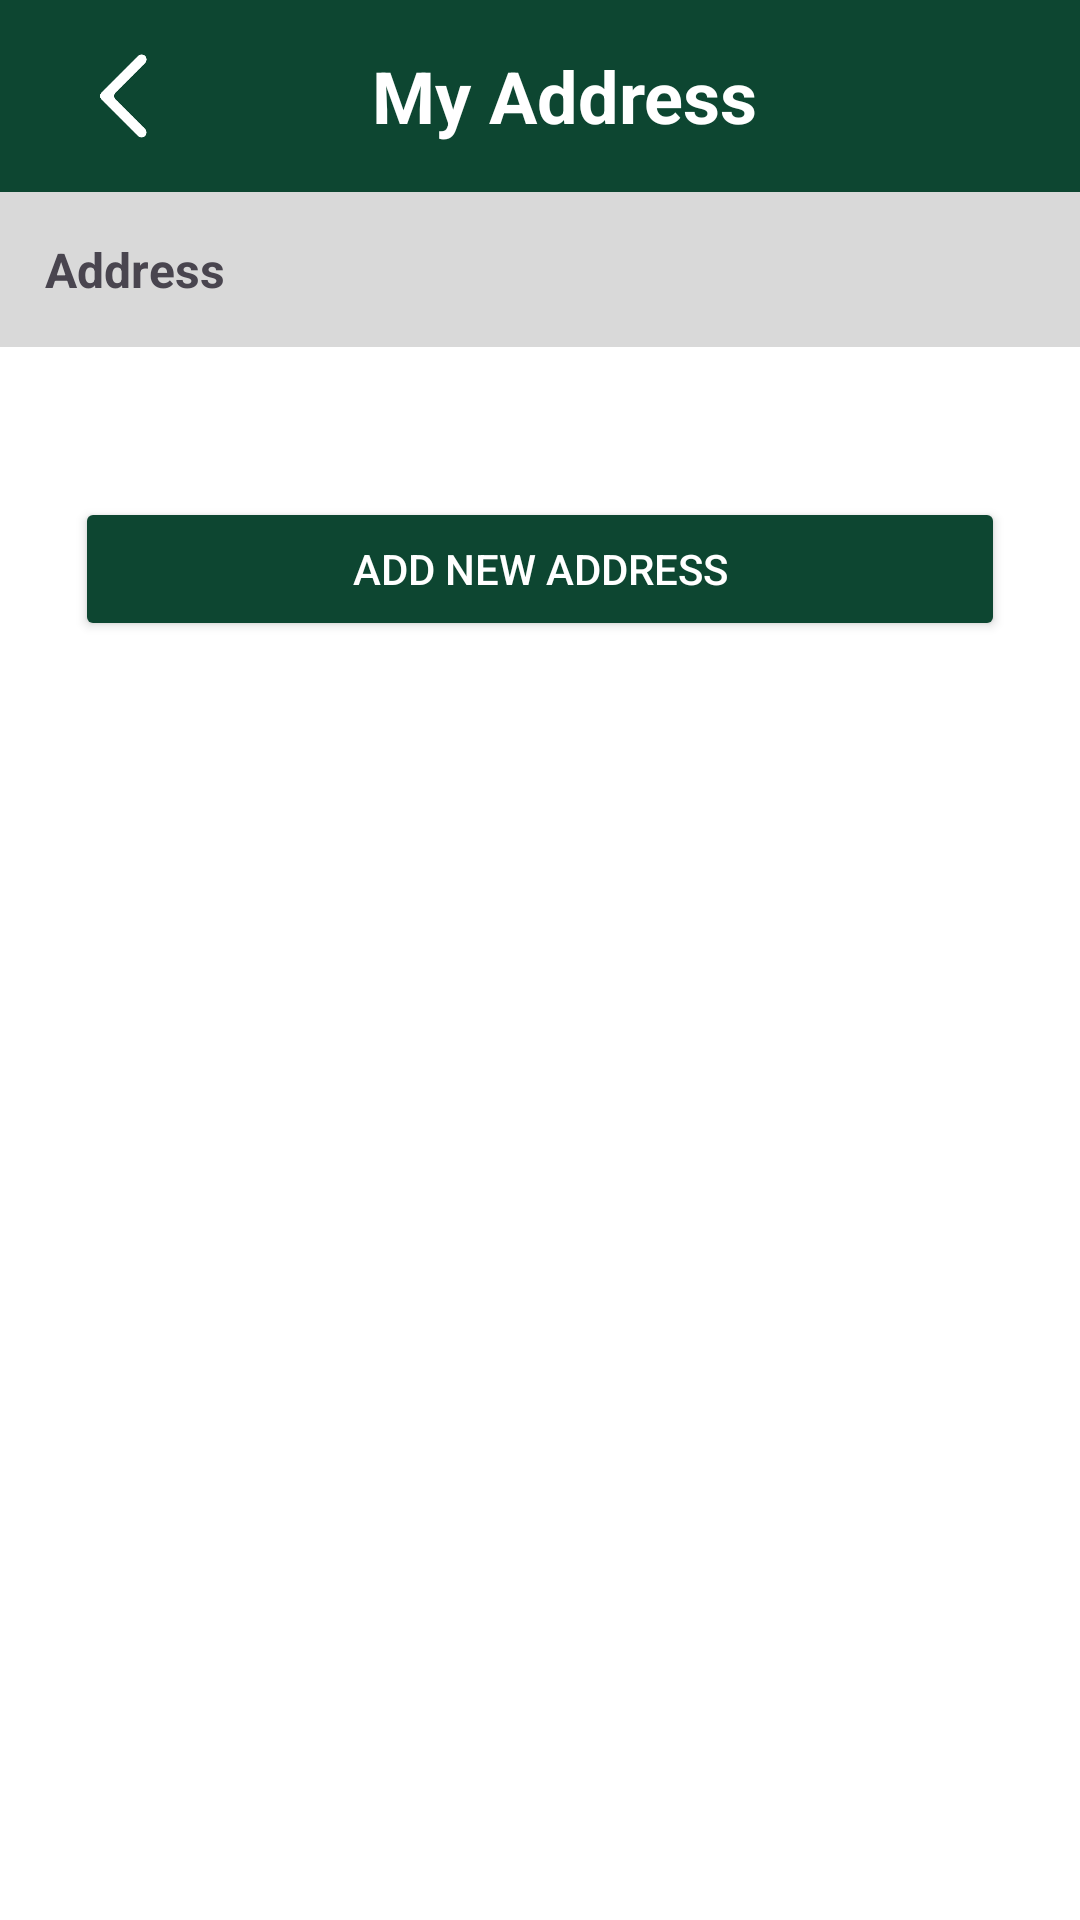

Icon bounding boxes for this 1080px x 1920px phone screenshot, format box=[x1, y1, x2, y2]:
back to previous activity: box=[100, 54, 147, 138]
